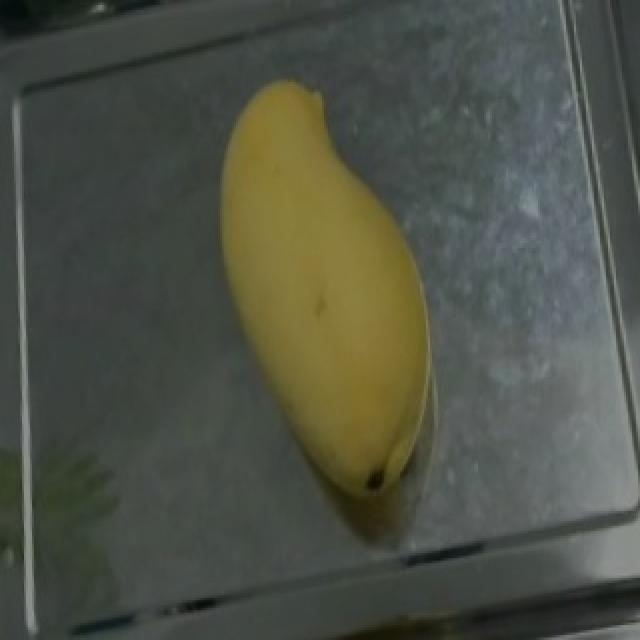fruit: (168, 49, 482, 464)
